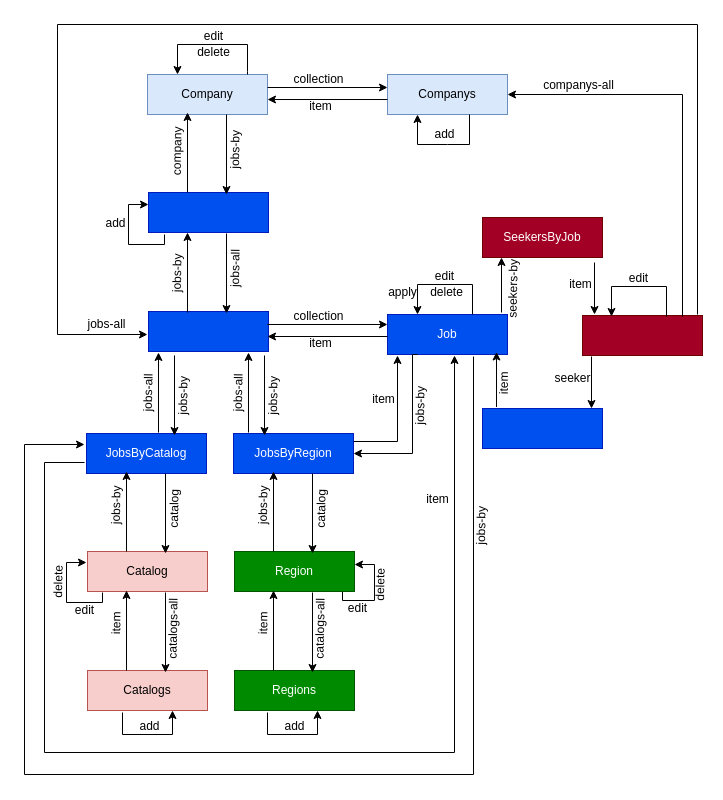
Some shapes in this 723 by 800 pixel diagram are drawn without their labels. The centre of each missing label's shape, as x and y in pixels:
"Jobs" belongs at [208,331].
"JobsByCompany" belongs at [208,212].
"JobsBySeeker" belongs at [542,428].
"Seeker/User" belongs at [642,335].
